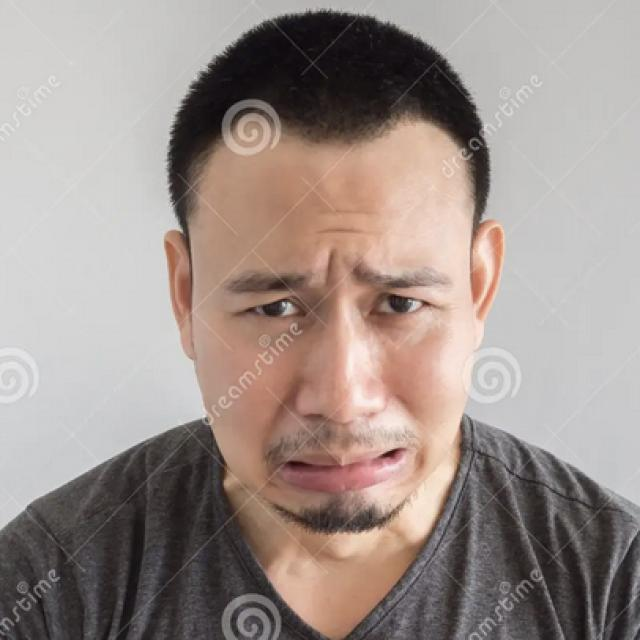sad: (157, 180, 493, 537)
